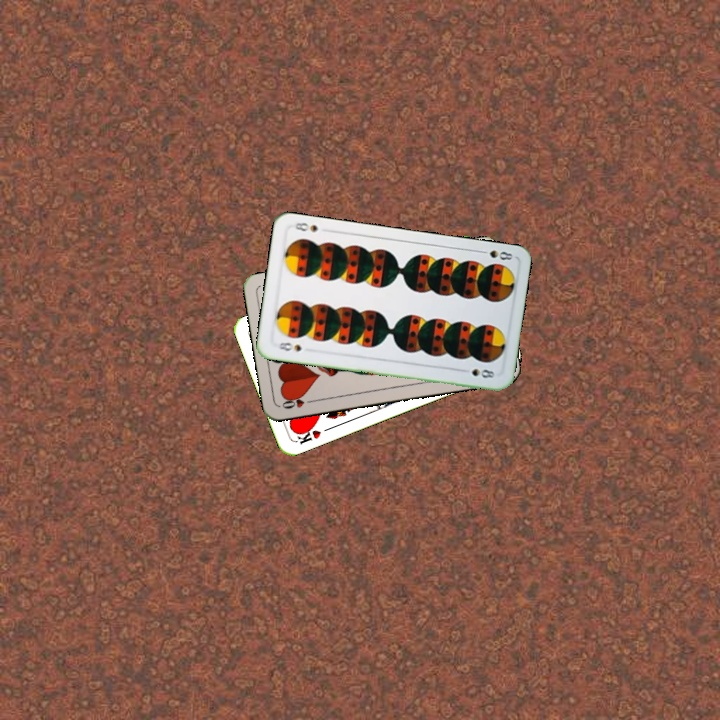HK: (292, 422, 324, 447)
HO: (278, 392, 318, 412)
S8: (475, 246, 515, 263), (274, 338, 304, 354)
